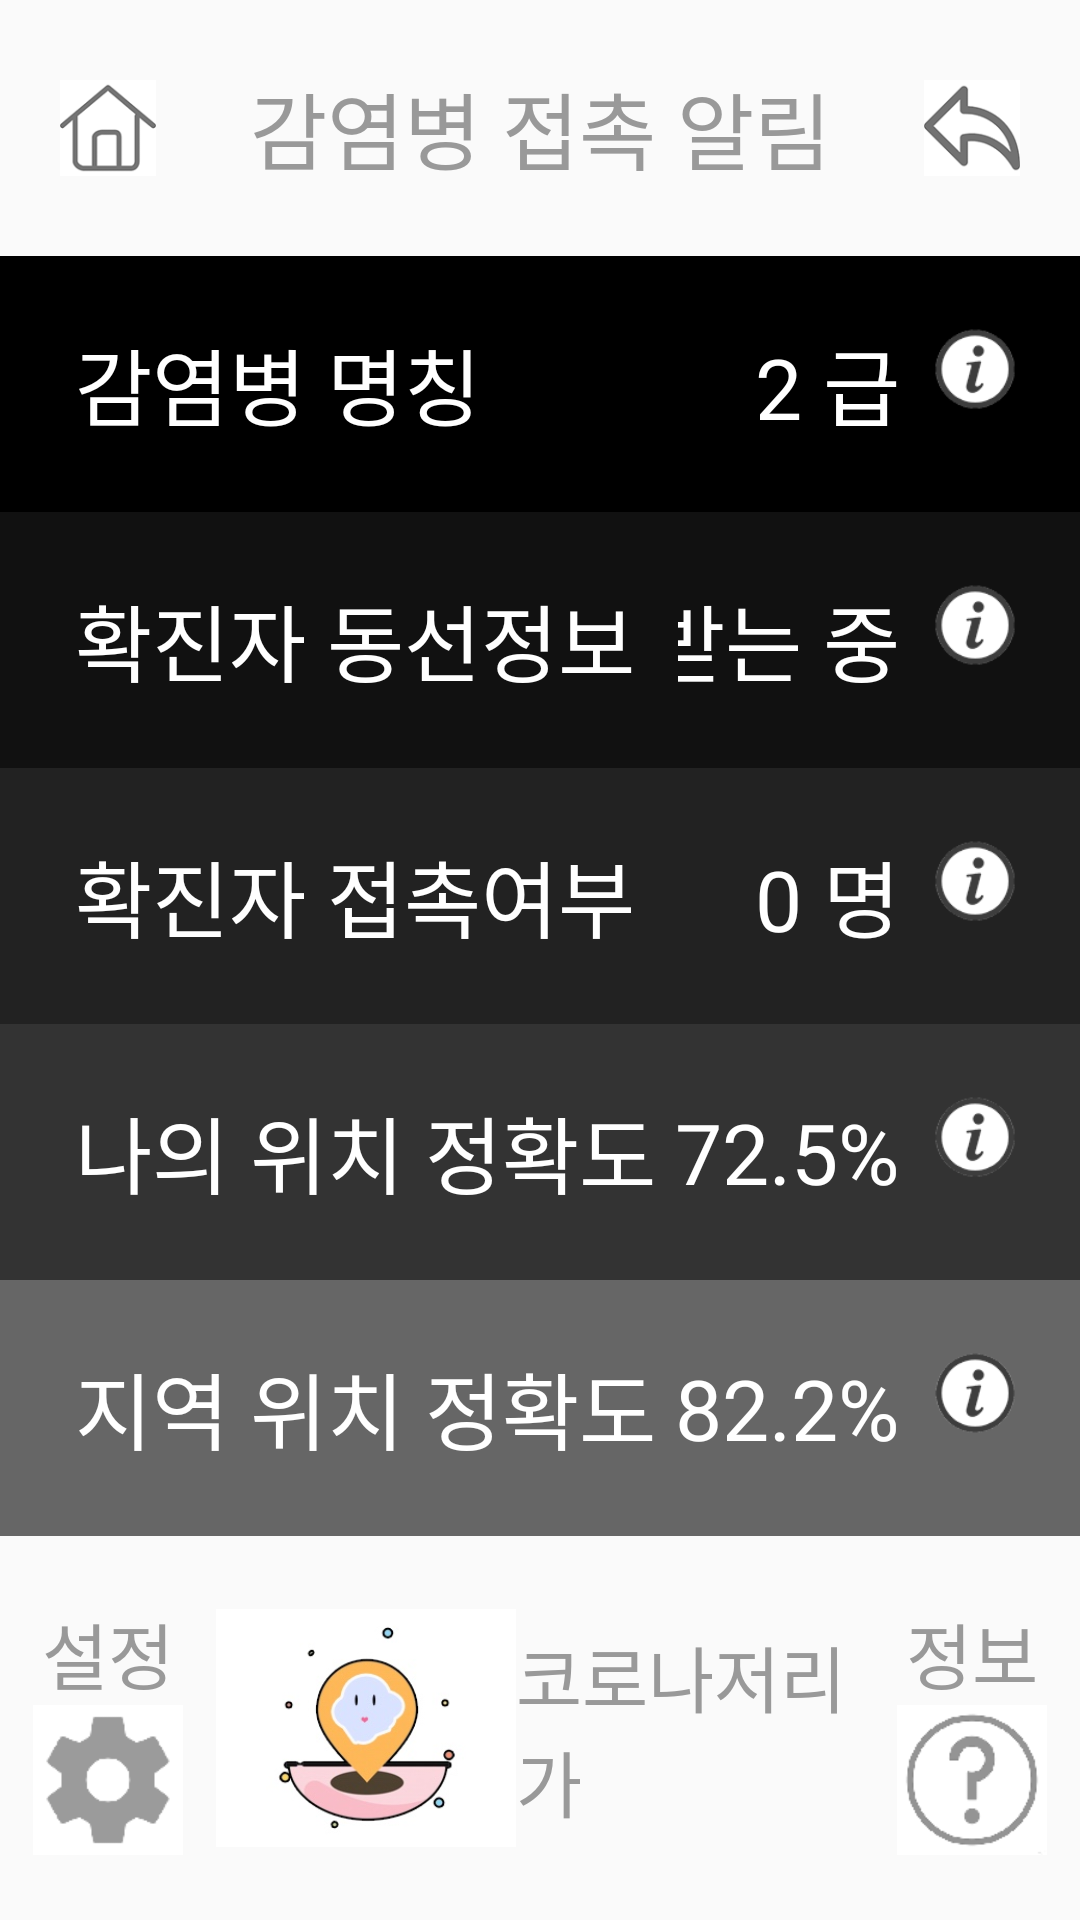

Screen size 1080×1920. Icon name, then its box in pixels as (x1, y1, x2, y2):
back: (924, 86, 1020, 170)
home: (60, 85, 156, 171)
information: (935, 329, 1015, 409), (935, 586, 1015, 665), (935, 842, 1015, 921), (935, 1099, 1013, 1176), (936, 1354, 1014, 1432)
question: (906, 1714, 1038, 1846)
setting: (46, 1717, 170, 1843)
